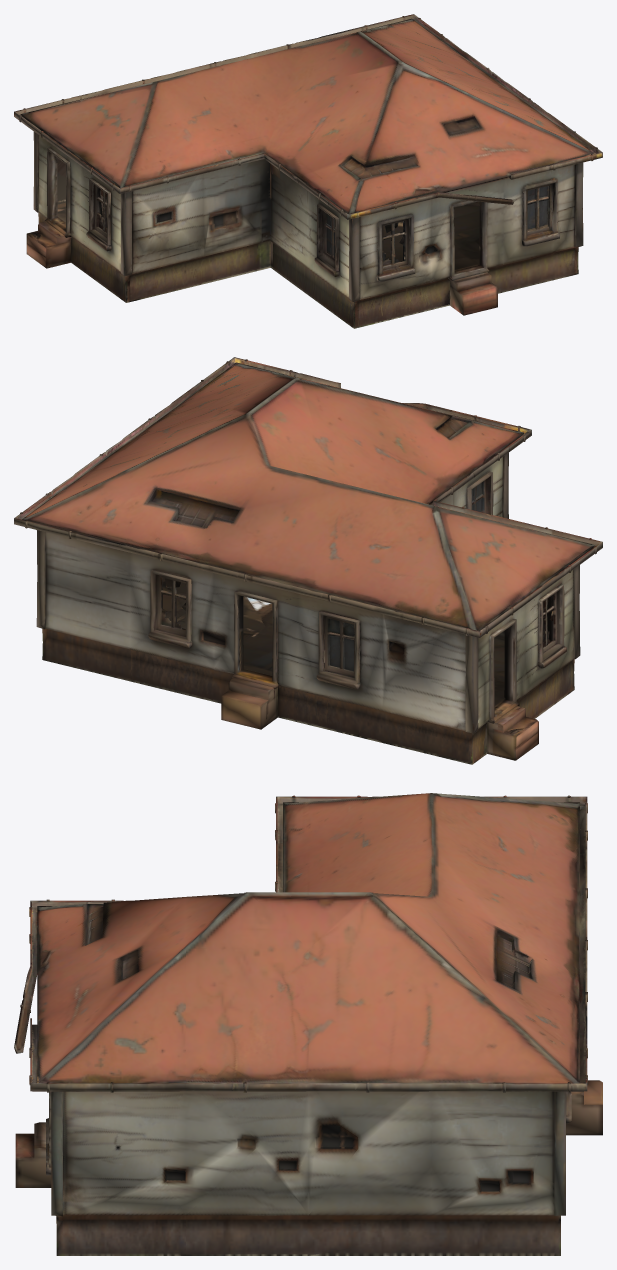
Rendered from house.fbx.
3 views of the same model, one above another, from view 1: azimuth 30°, elevation 25°; view 2: azimuth 150°, elevation 25°; view 3: azimuth 270°, elevation 25° (orthographic). The views are drawn at different scales.
Parts seen in each view (by area): view 1: input; view 2: input; view 3: input.
Boxes of the visible parts, x1,y1,x2,y2 form: input: (14,14,602,328); input: (14,357,602,764); input: (14,793,602,1255).
Bounding box in the file's own units: 200 × 89.78 × 169.
1 material, 1 textured.
